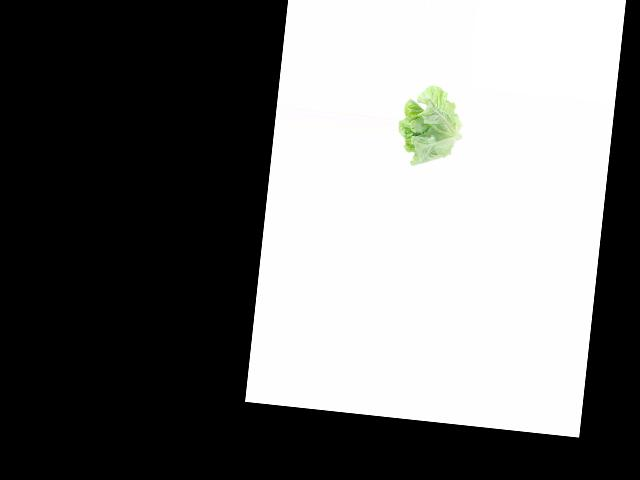lettuce: (394, 83, 463, 171)
